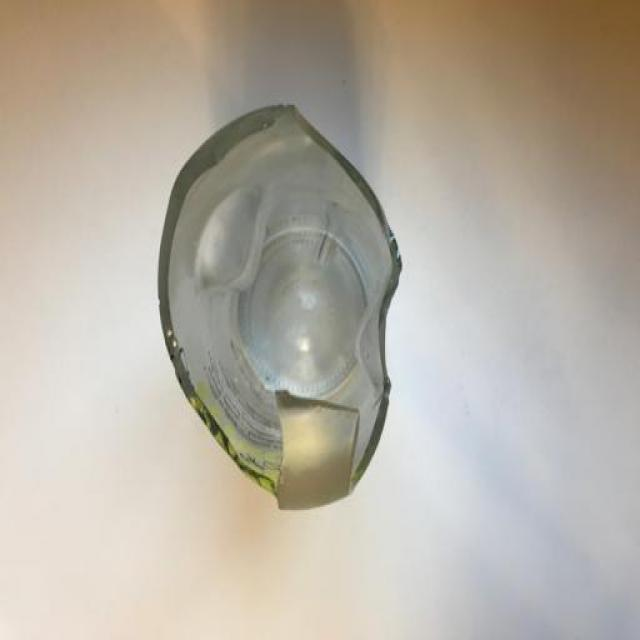Waste: (160, 107, 402, 510)
